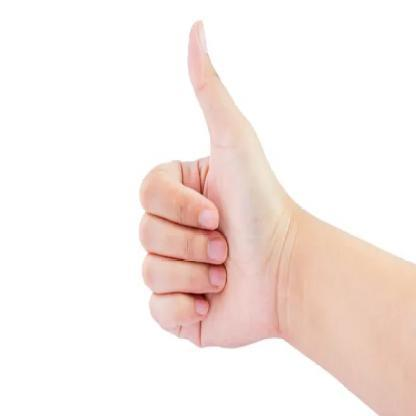thumb_up: (137, 17, 287, 356)
